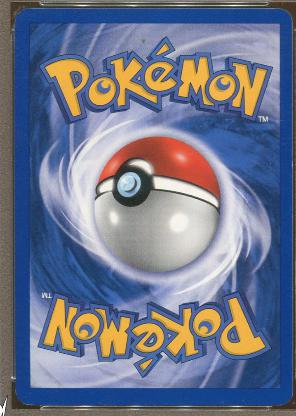Card: (12, 7, 294, 408)
Corner Wear: (14, 8, 28, 24), (20, 401, 35, 405), (14, 388, 16, 394), (275, 404, 282, 404)
Edge Wear: (148, 404, 174, 406), (289, 159, 291, 169)
Scratch: (241, 398, 244, 400), (249, 390, 251, 392)
